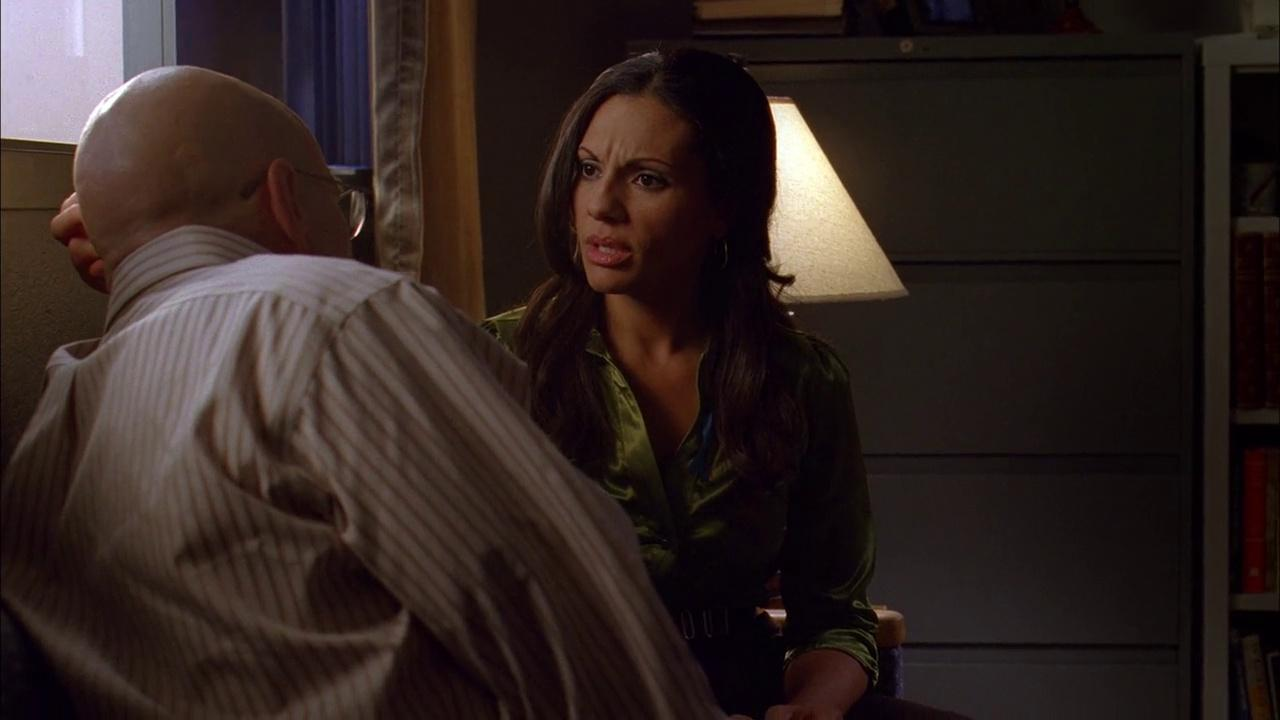Rak: (761, 34, 1201, 719)
